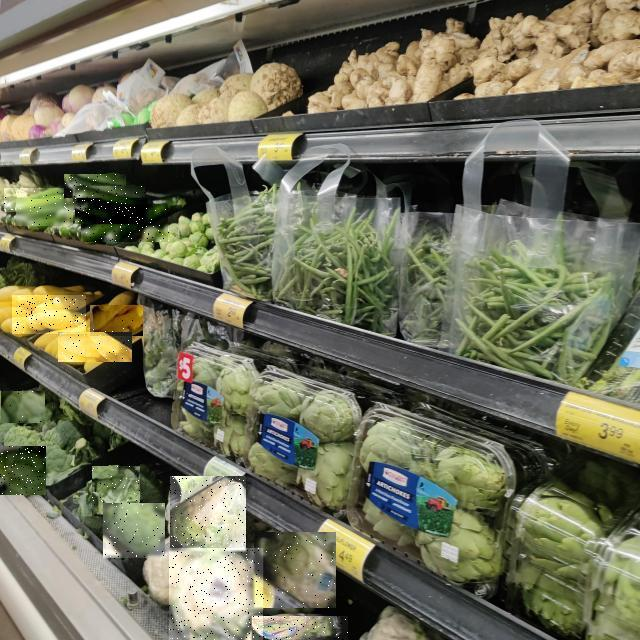Broccoli: (103, 504, 165, 560), (93, 466, 141, 516), (0, 446, 46, 495), (1, 391, 45, 423)
Cauliflower: (169, 548, 263, 640), (254, 532, 336, 608), (170, 476, 246, 551), (253, 616, 349, 640)
Squash: (12, 295, 86, 334), (59, 332, 133, 362), (90, 305, 143, 336)
Zuccini: (82, 204, 170, 242), (76, 199, 150, 225), (73, 187, 145, 211), (16, 199, 73, 226), (64, 174, 126, 198), (4, 189, 64, 213)
